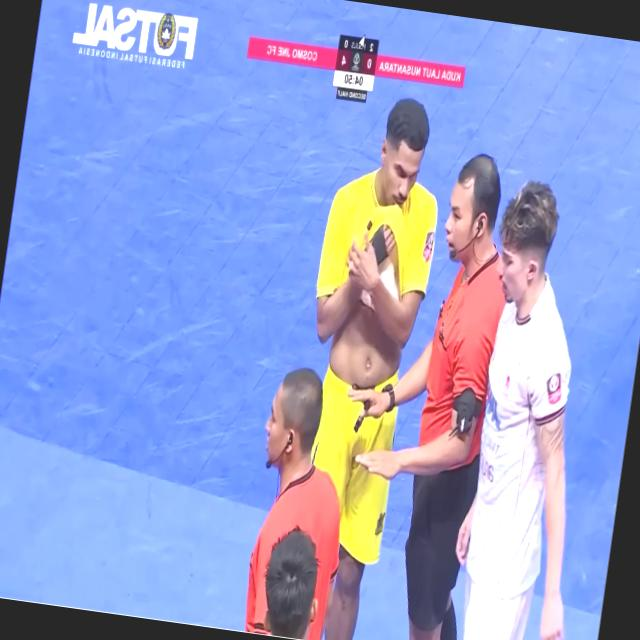players: (312, 99, 436, 639), (455, 182, 570, 639)
referee: (349, 155, 503, 639), (244, 368, 339, 639)
